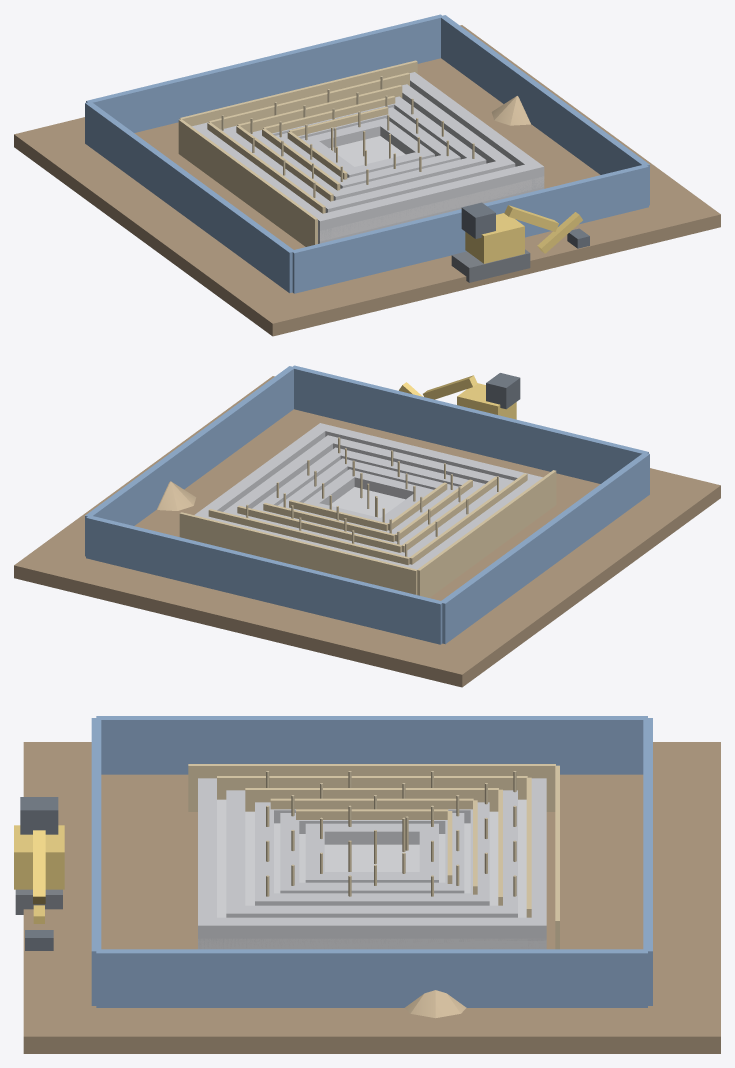
The model's file is num-5-site.glb.
3 views of the same model, one above another, from view 1: azimuth 30°, elevation 25°; view 2: azimuth 150°, elevation 25°; view 3: azimuth 270°, elevation 25° (orthographic). The views are drawn at different scales.
Size of the model in its own units: 22 by 3.4 by 22.3.
